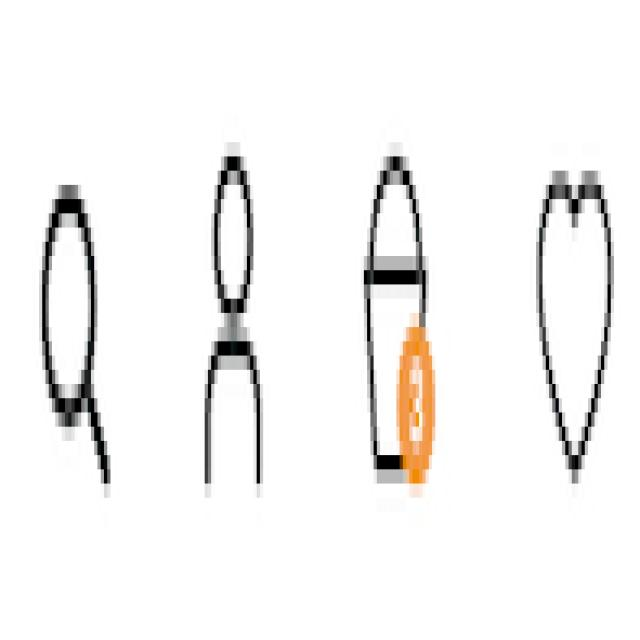MiniCart: (363, 139, 437, 494)
MyAccount: (201, 145, 264, 496)
Search: (37, 171, 113, 495)
Whishlist: (534, 159, 617, 487)
